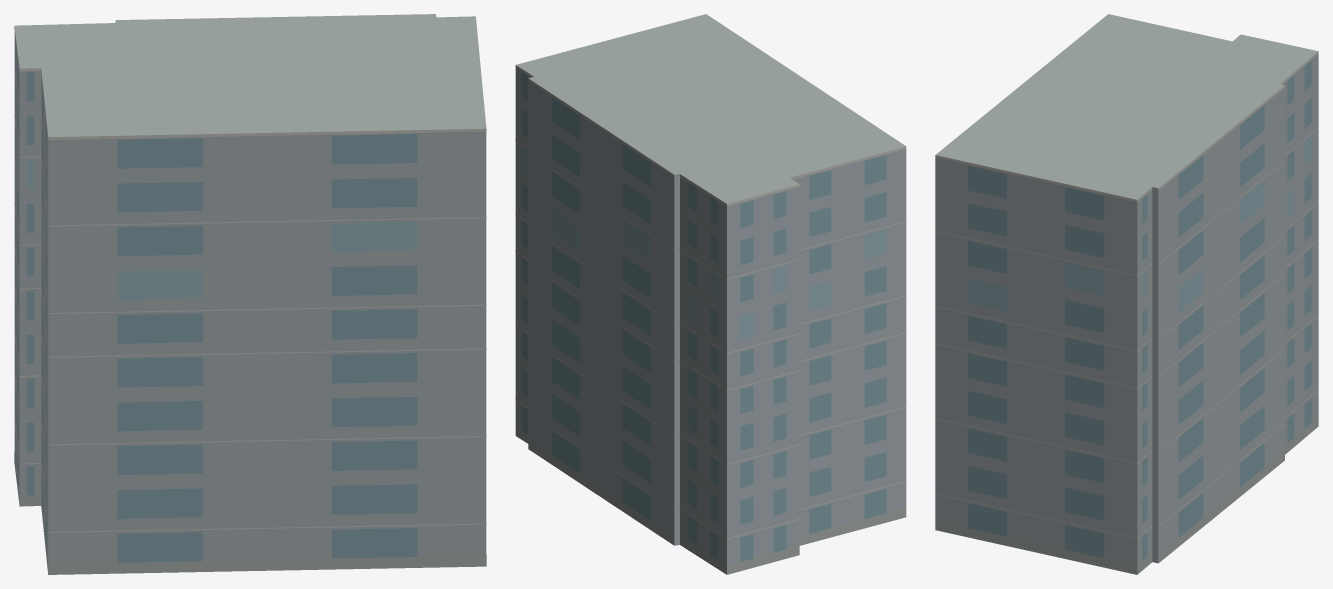
Rendered from survey-upis-32507626.glb.
3 views of the same model, side by side, from view 1: azimuth 30°, elevation 25°; view 2: azimuth 150°, elevation 25°; view 3: azimuth 270°, elevation 25° (orthographic). The views are drawn at different scales.
Parts seen in each view (by area): view 1: survey-upis-32507626.tmp; view 2: survey-upis-32507626.tmp; view 3: survey-upis-32507626.tmp.
Boxes of the visible parts, left/top/right/bottom form: survey-upis-32507626.tmp: left=14, top=14, right=486, bottom=574; survey-upis-32507626.tmp: left=515, top=14, right=906, bottom=574; survey-upis-32507626.tmp: left=935, top=14, right=1318, bottom=574.
Bounding box in the file's own units: 38.17 × 35.9 × 33.27.
